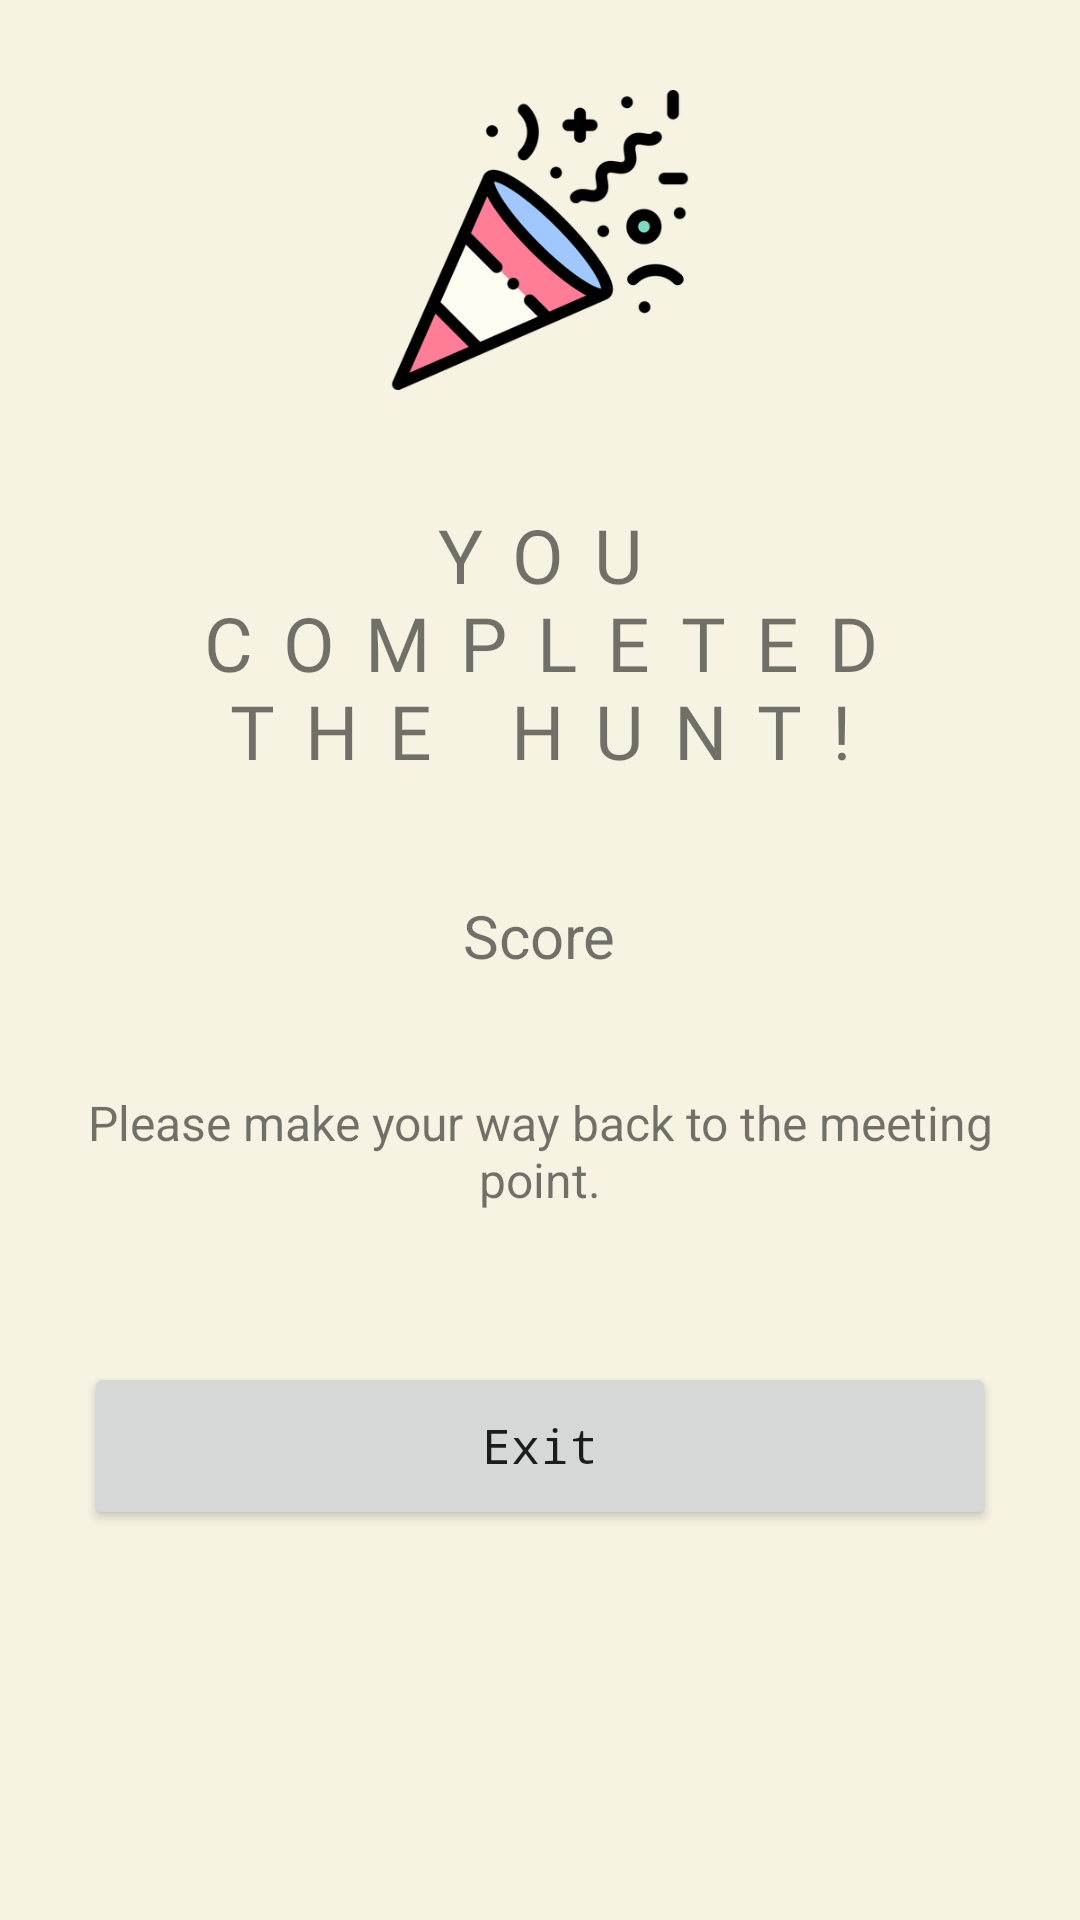

Screen size 1080 x 1920. Icon name, then its box in pixels as (x1, y1, x2, y2):
celebration: (391, 90, 689, 390)
